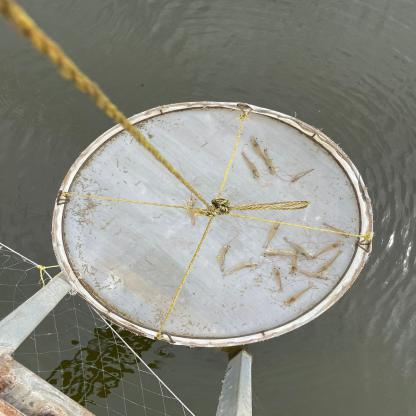shrimp: (283, 281, 319, 307), (284, 237, 314, 260), (311, 240, 345, 259), (250, 136, 270, 165), (318, 250, 343, 273), (241, 151, 260, 180), (263, 220, 282, 249), (322, 222, 351, 239), (222, 263, 259, 276), (260, 251, 313, 260), (185, 195, 197, 228), (296, 269, 330, 280), (289, 169, 315, 183), (264, 149, 277, 176), (219, 243, 230, 273), (289, 249, 300, 276), (273, 267, 283, 293)
